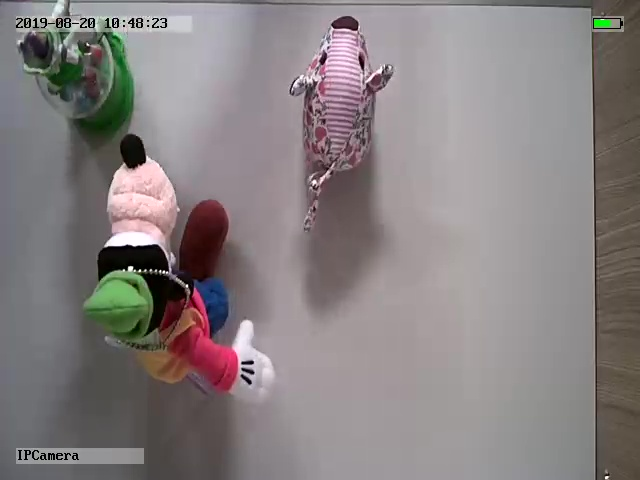buzz: (16, 4, 136, 129)
goofy: (82, 135, 278, 405)
pig: (285, 15, 397, 234)
